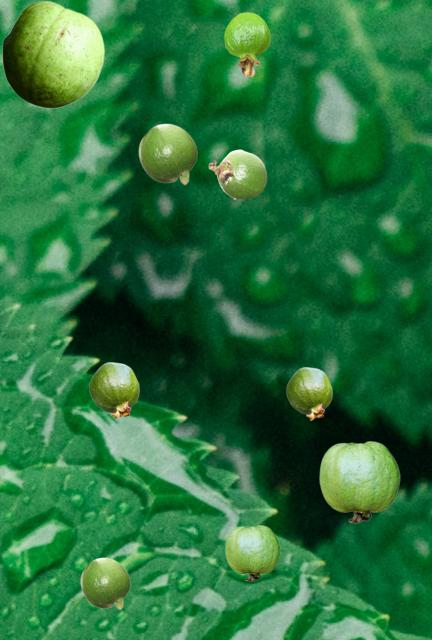guava: (2, 1, 103, 107), (319, 441, 399, 522), (138, 123, 196, 184), (225, 525, 279, 580), (224, 12, 269, 76), (208, 149, 266, 198), (89, 362, 138, 418), (80, 557, 129, 609), (286, 367, 331, 419)
